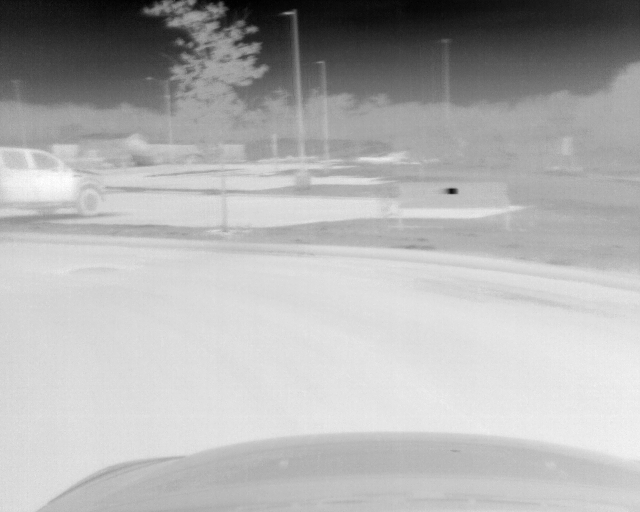car: (1, 146, 108, 217)
